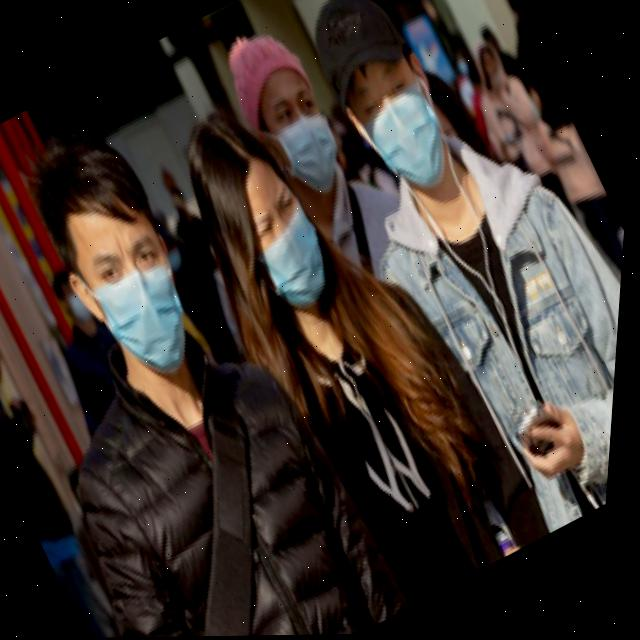Mask: (59, 218, 224, 398), (330, 51, 478, 213), (217, 179, 351, 325), (257, 86, 357, 197)
